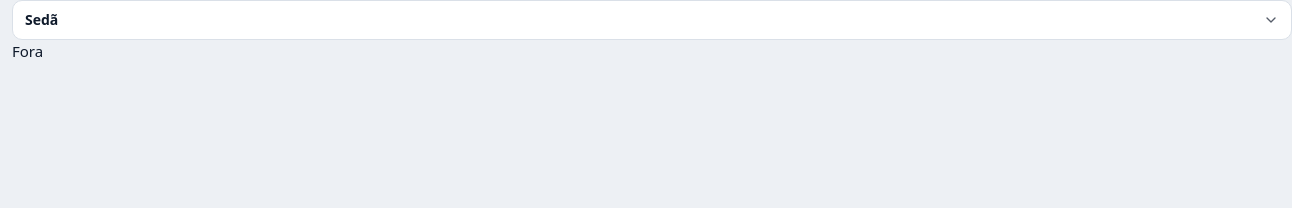
Selecao › escolhe pelo toque, devolve o foco ao campo e não avisa quando nada muda
Click the dropdown named "Carroceria" at (652, 20), box [12,0,1291,40]
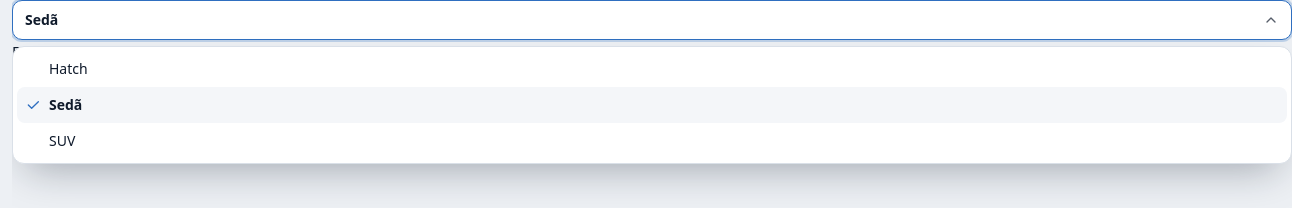
Click the option "SUV" at (62, 140), box [49,131,75,150]
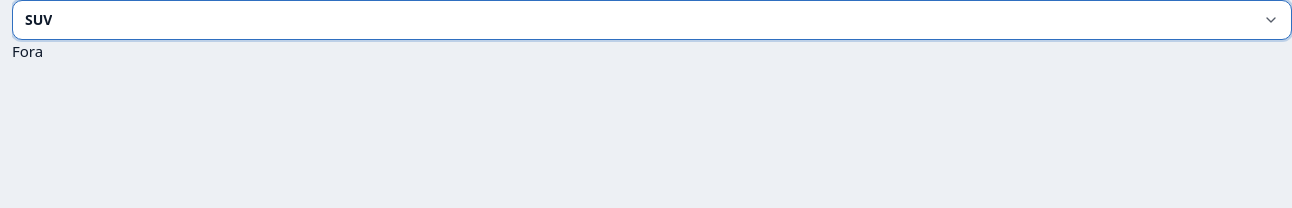
Now the dropdown named "Carroceria" reads "SUV"
Now the dropdown named "Carroceria" is collapsed
Click the dropdown named "Carroceria" at (652, 20), box [12,0,1291,40]
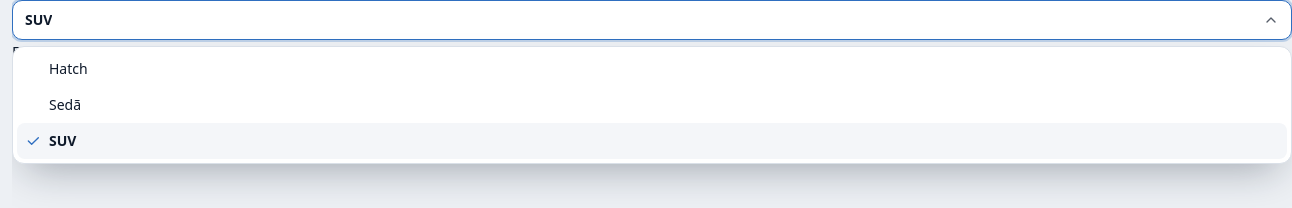
Click the option "SUV" at (33, 141), box [17,123,1287,159]
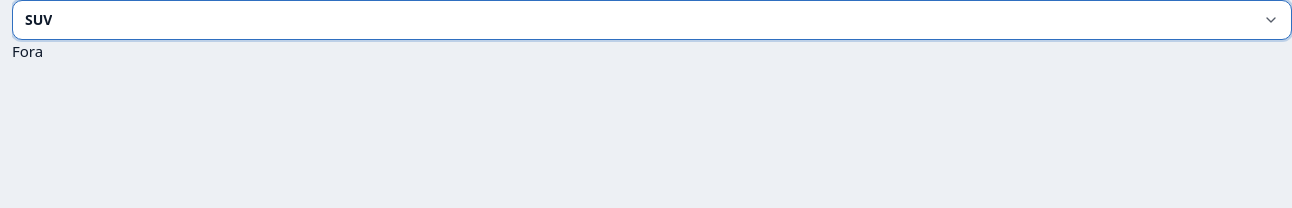
Now the list is gone
